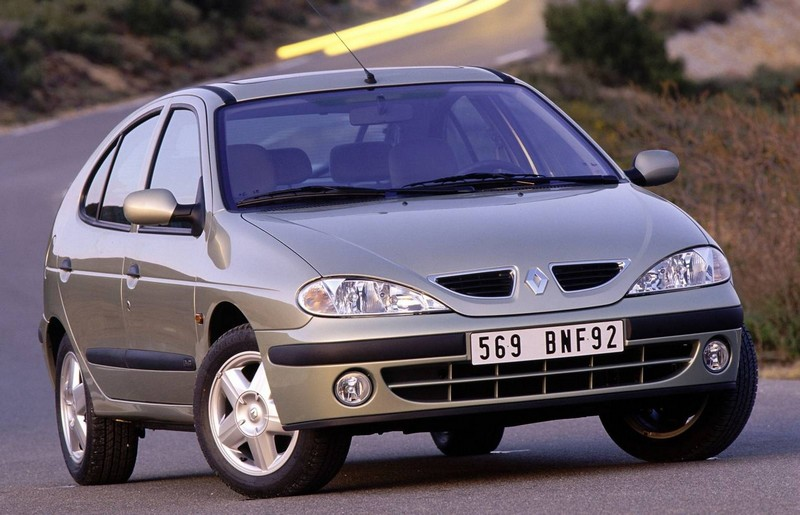car: (33, 62, 760, 496)
